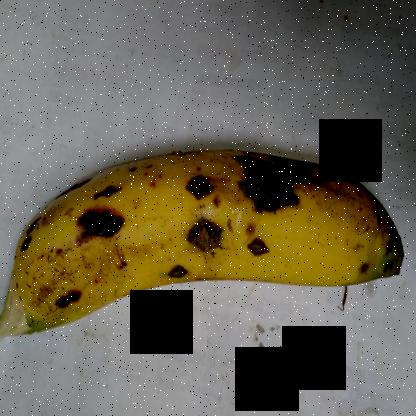rotten: (216, 133, 338, 232), (75, 178, 137, 253), (185, 211, 235, 273), (46, 280, 98, 320), (246, 226, 280, 280), (184, 174, 216, 214), (162, 256, 191, 292)
